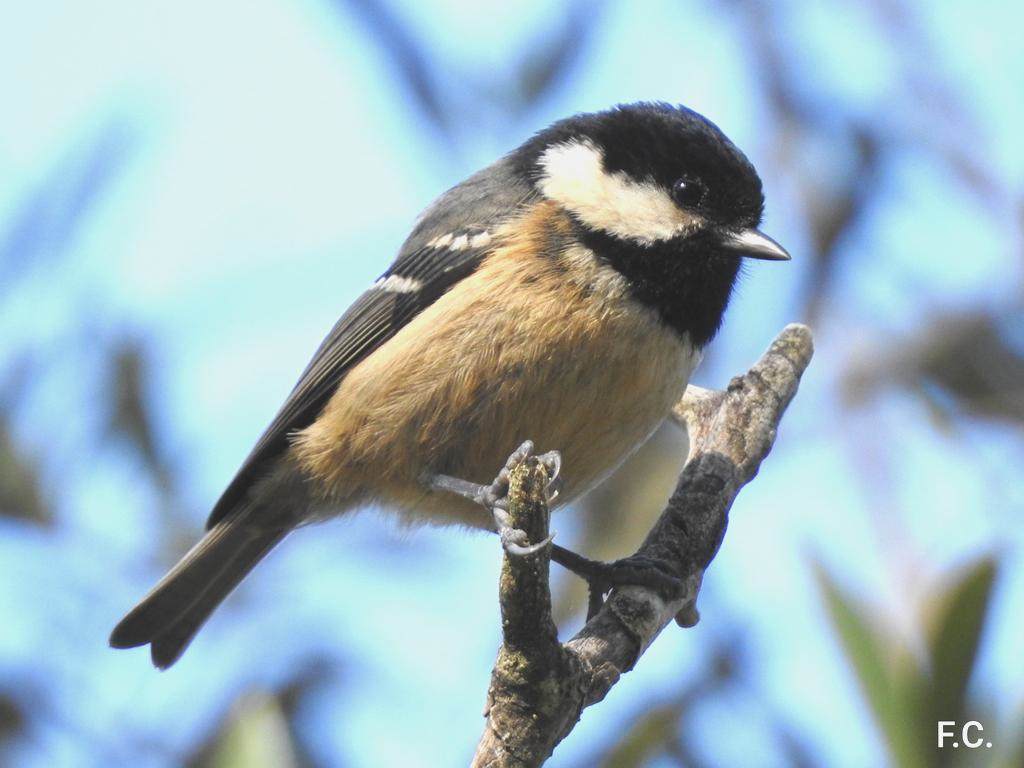PeriparusAter: (105, 98, 793, 673)
